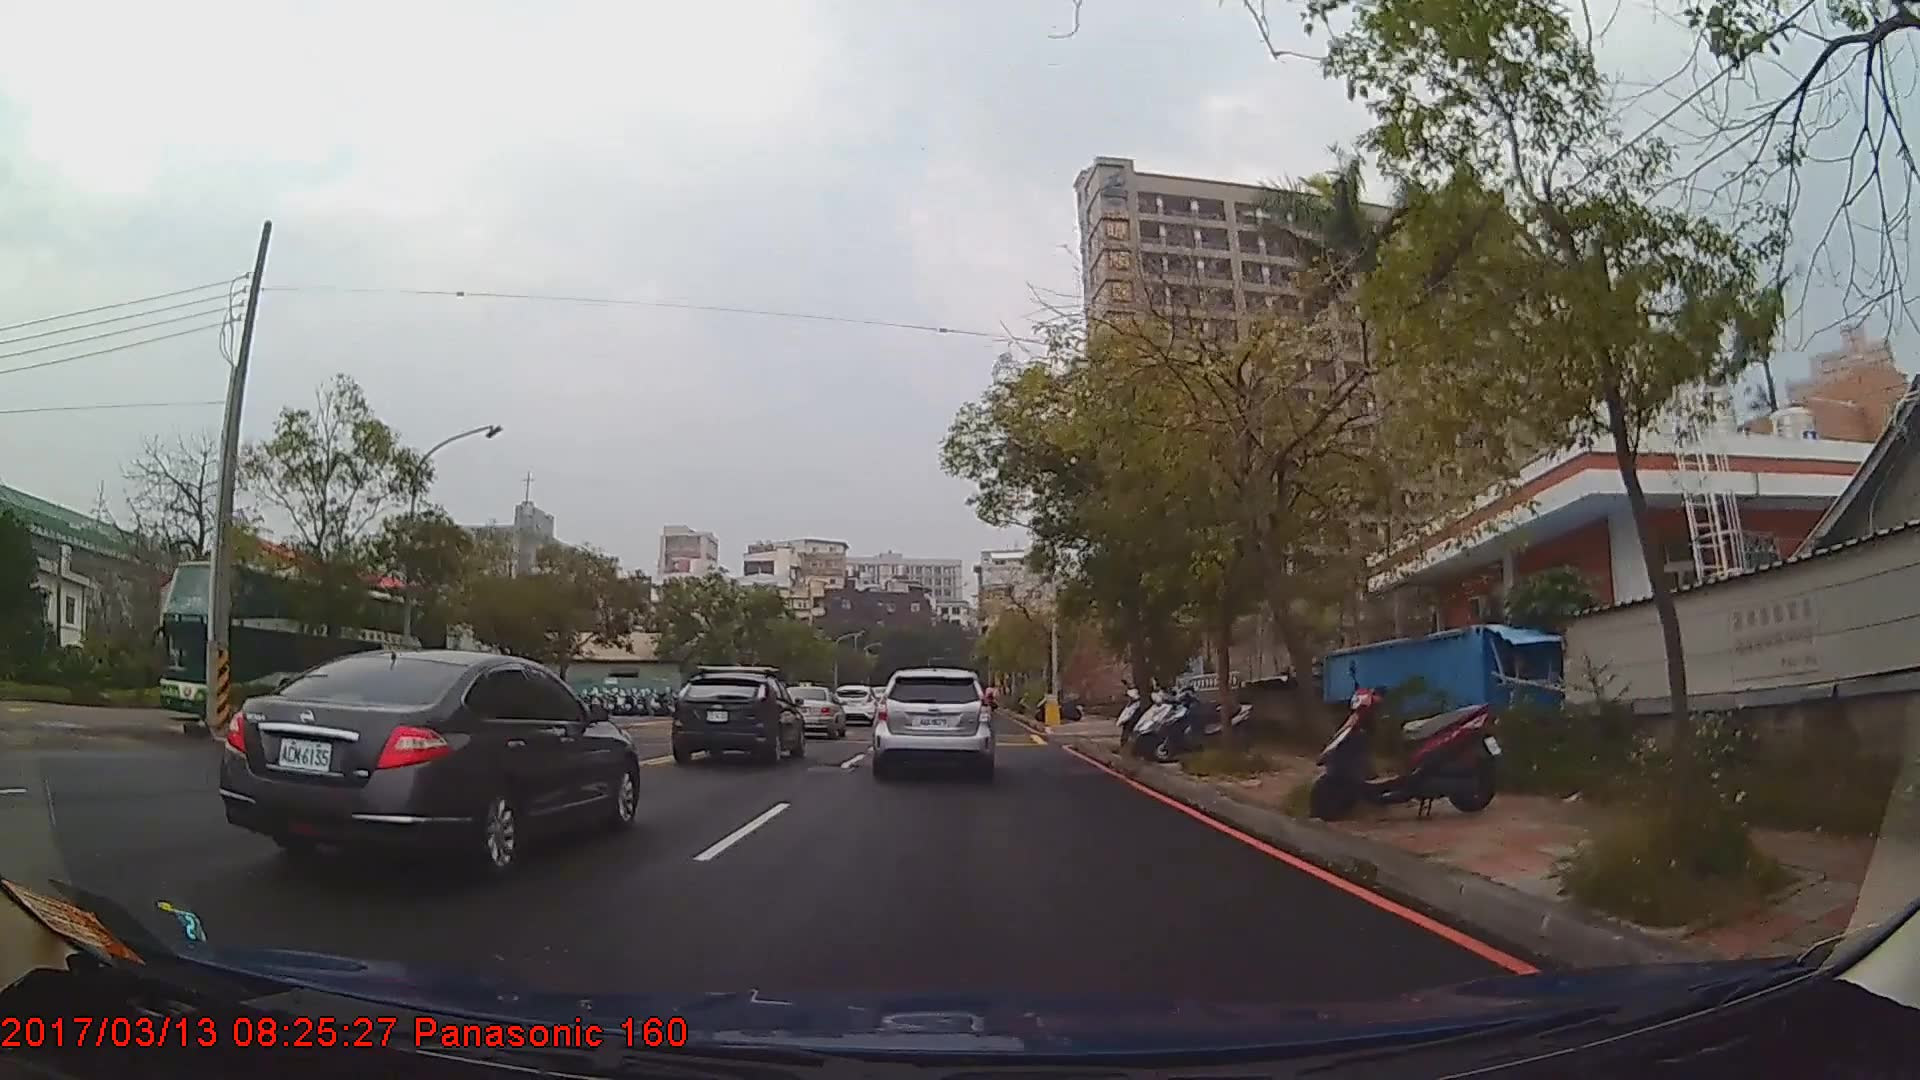vehicle: (218, 646, 642, 876), (156, 556, 455, 744), (669, 670, 804, 770), (874, 666, 992, 777), (779, 683, 844, 740), (833, 682, 880, 725)
